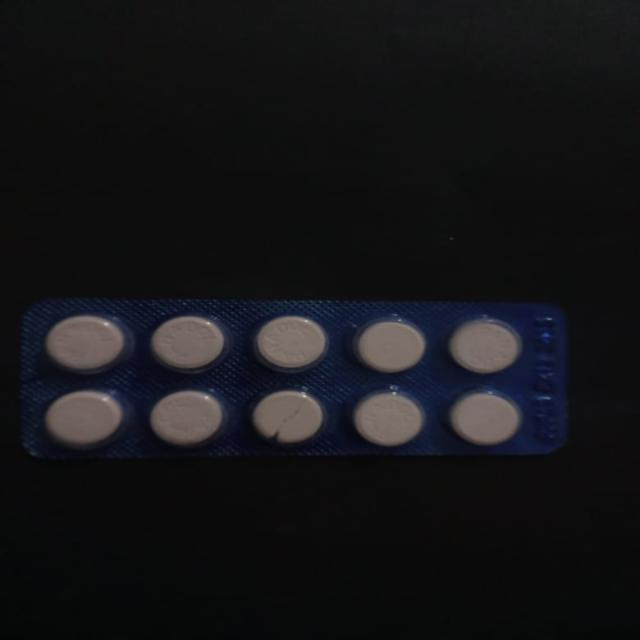defect: (247, 386, 329, 448)
